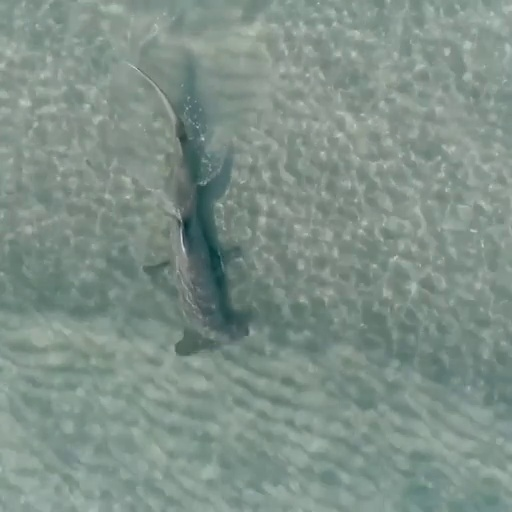shark: (118, 57, 253, 359)
